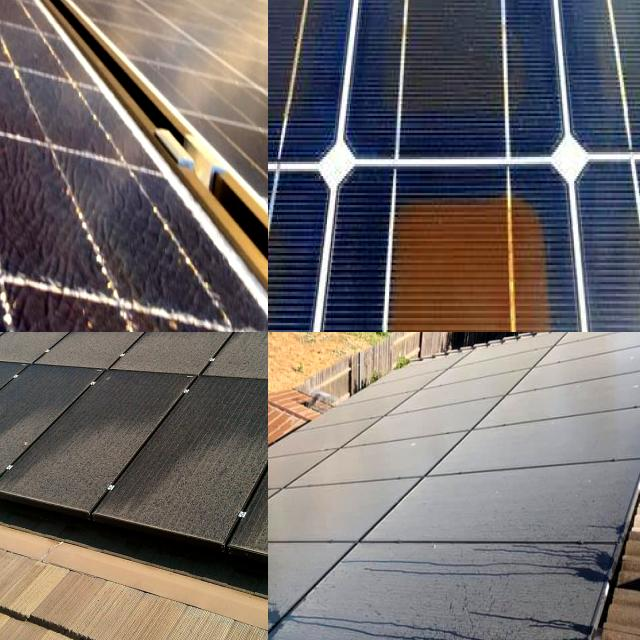dust: (398, 480, 601, 606), (403, 362, 637, 459), (197, 381, 268, 551), (94, 368, 176, 510), (0, 359, 75, 491), (268, 542, 373, 623), (268, 470, 383, 540), (402, 599, 580, 640), (0, 358, 46, 456), (50, 332, 156, 366), (330, 408, 385, 462), (570, 332, 640, 371), (0, 332, 44, 363), (12, 332, 114, 345), (171, 332, 218, 358), (241, 332, 268, 376), (229, 332, 268, 352), (163, 332, 196, 352)
shadow: (371, 145, 562, 332), (381, 0, 538, 125), (268, 198, 363, 332), (268, 0, 343, 128), (593, 0, 640, 113)
